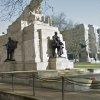Statue: (39, 23, 75, 65)
